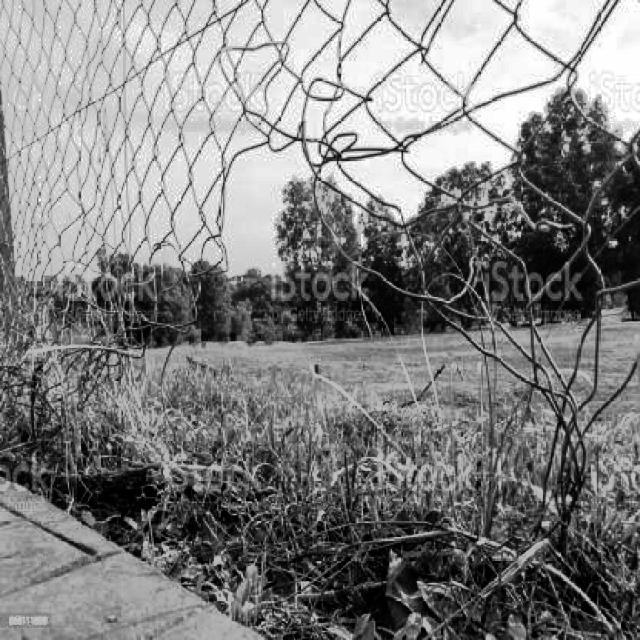anomaly-fence: (102, 79, 560, 631)
